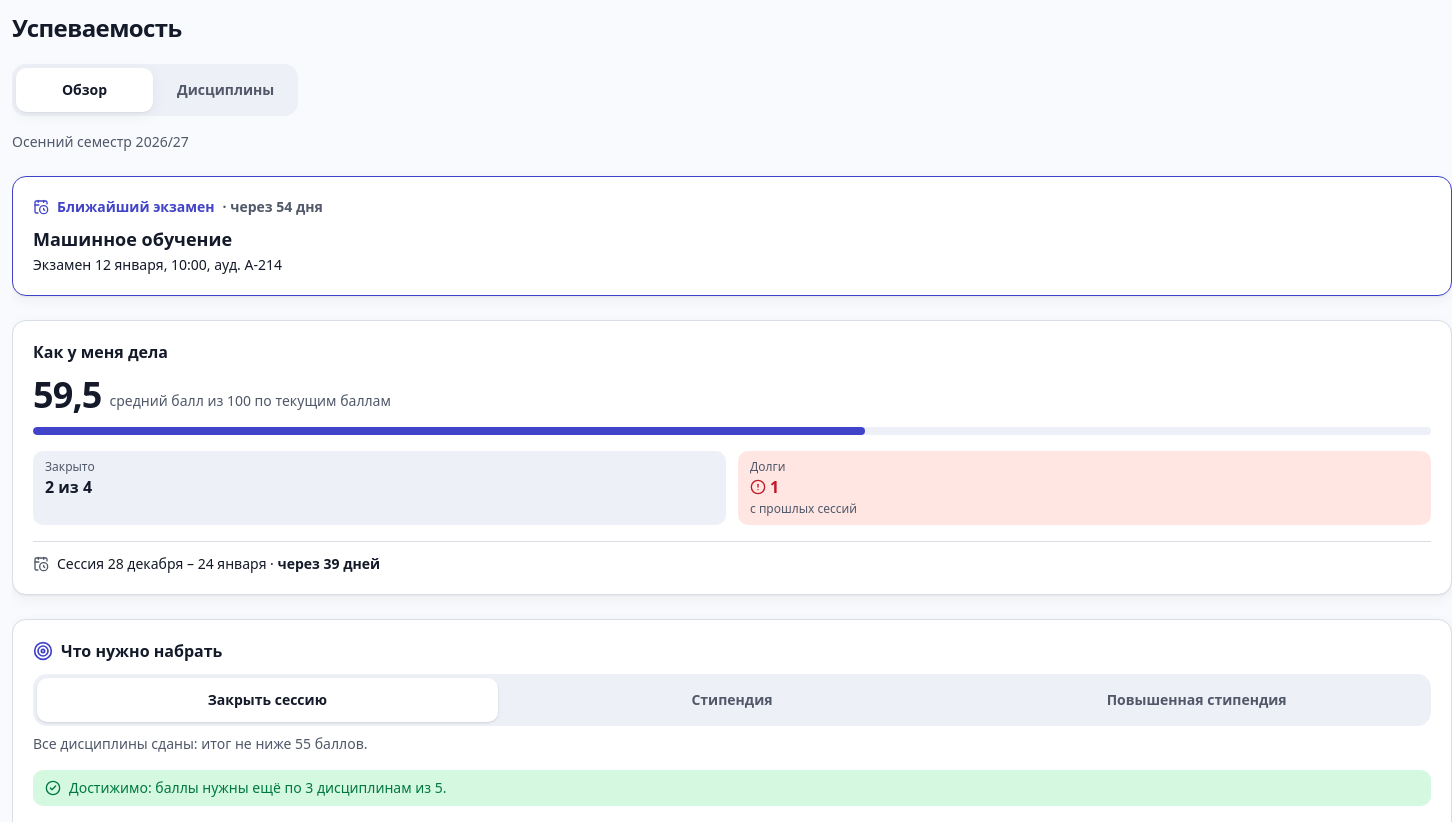
Scenario: даты экзаменов: экран › сверху «Ближайший экзамен», в карточках — дата, время, аудитория
Expected: the heading "Машинное обучение" is shown, [33, 227, 232, 251]
Expected: the text "Экзамен 12 января, 10:00, ауд. А-214" is shown, [33, 255, 282, 274]
Click the tab "Дисциплины". click: {"x": 226, "y": 90}
box: [157, 68, 294, 112]
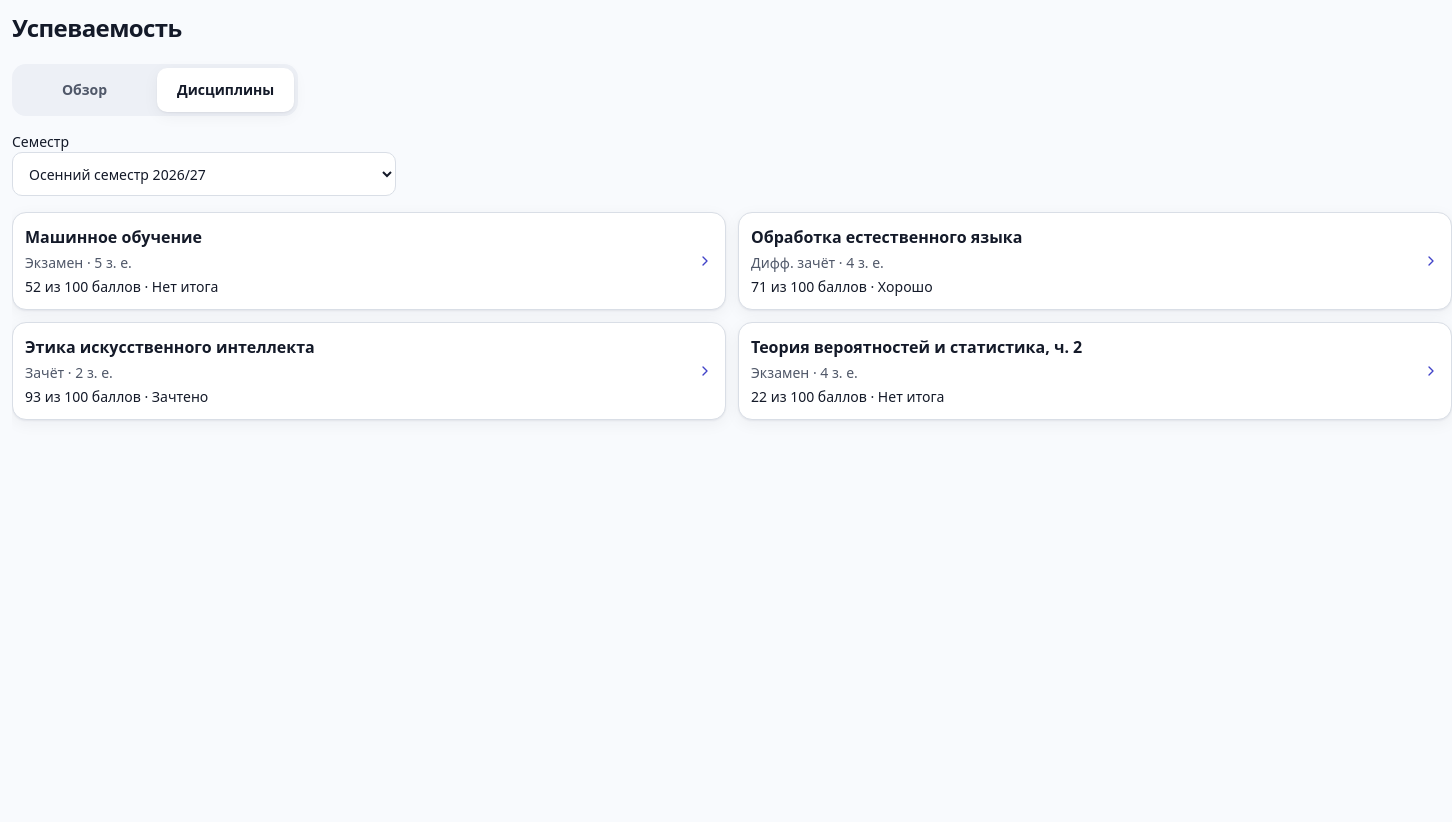
Click the link "Этика искусственного интеллекта". click: {"x": 170, "y": 347}
box: [12, 322, 726, 420]
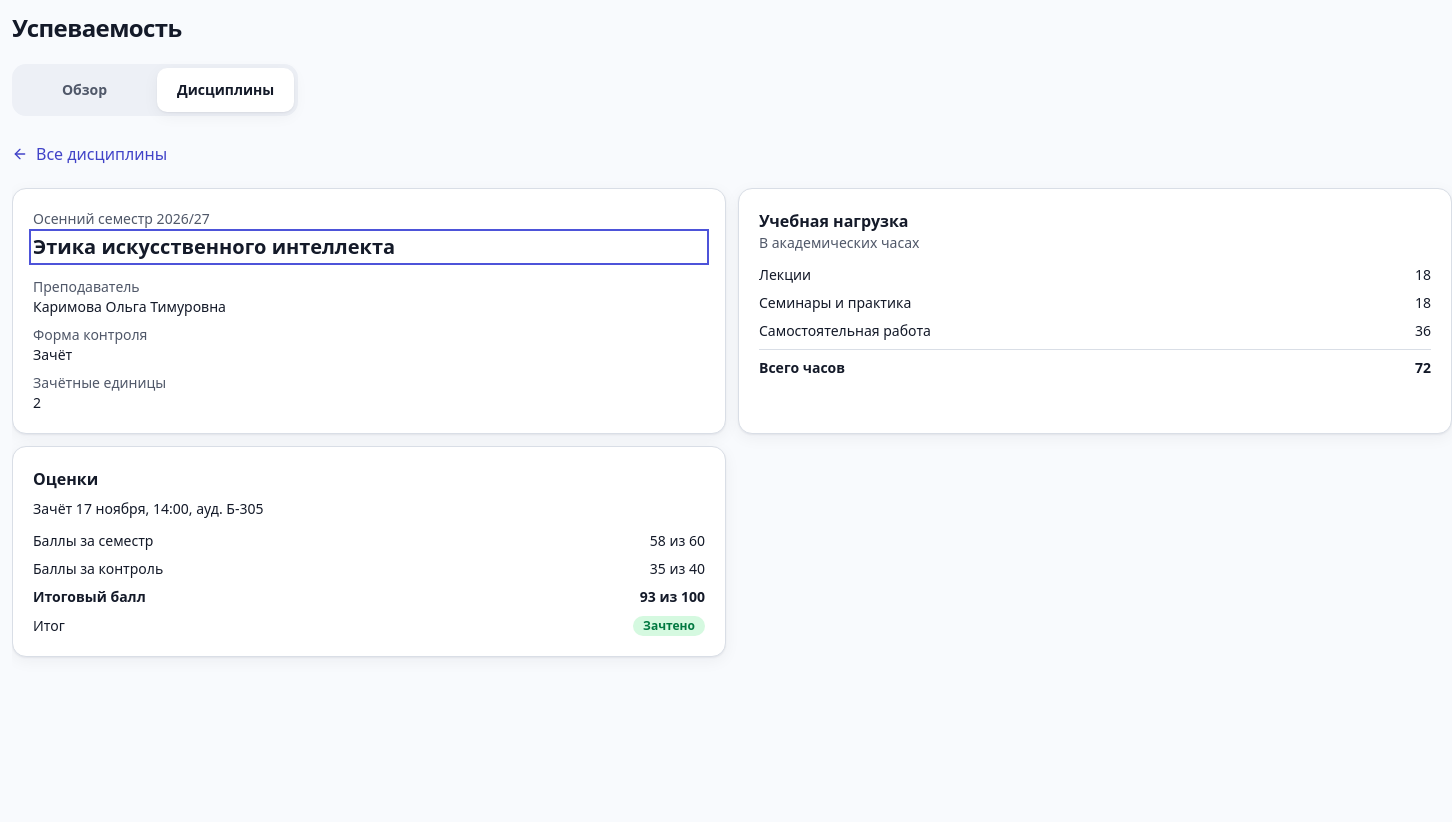
Expected: the text "Зачёт 17 ноября, 14:00, ауд. Б-305" is shown, [33, 499, 264, 518]
